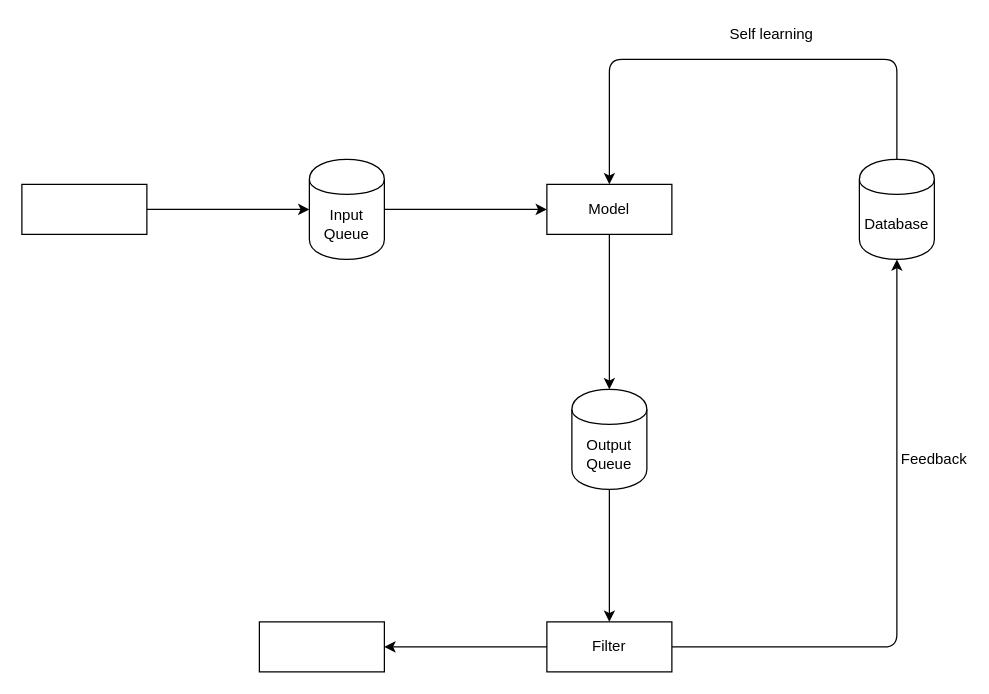
This 989x694 diagram has some shape labels left out. The shapes that lost their labels are listed below. From the top down, each one's centre as x and y in pixels, then its label:
At [84,208]: "File Logs".
At [321,646]: "Alerts".
